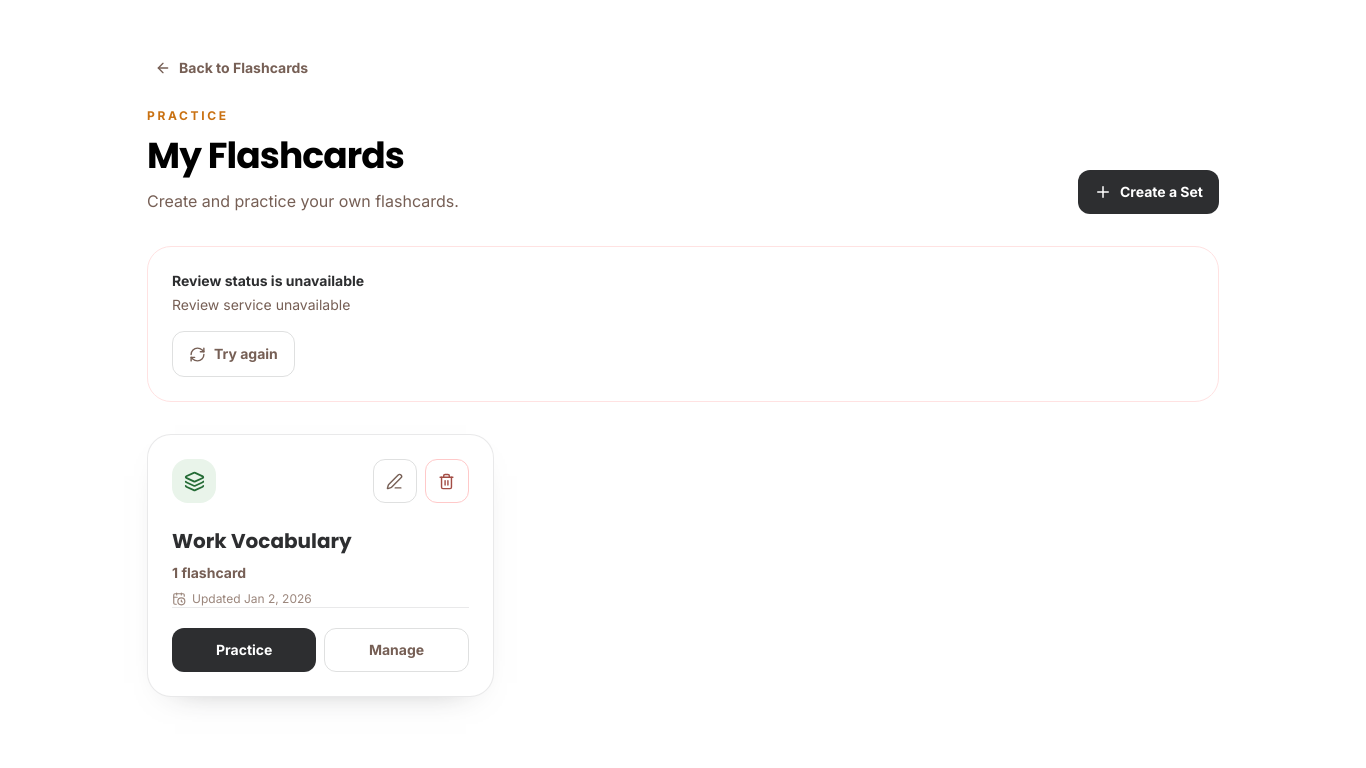
Test case: My Flashcards deck manager › keeps set management available when review status fails and lets students retry
expect the heading "Work Vocabulary" is shown: met, box [172,527,352,555]
expect the text "Review service unavailable" is shown: met, box [172,296,350,313]
Click the button "Try again": (233, 354) [172,331,295,377]
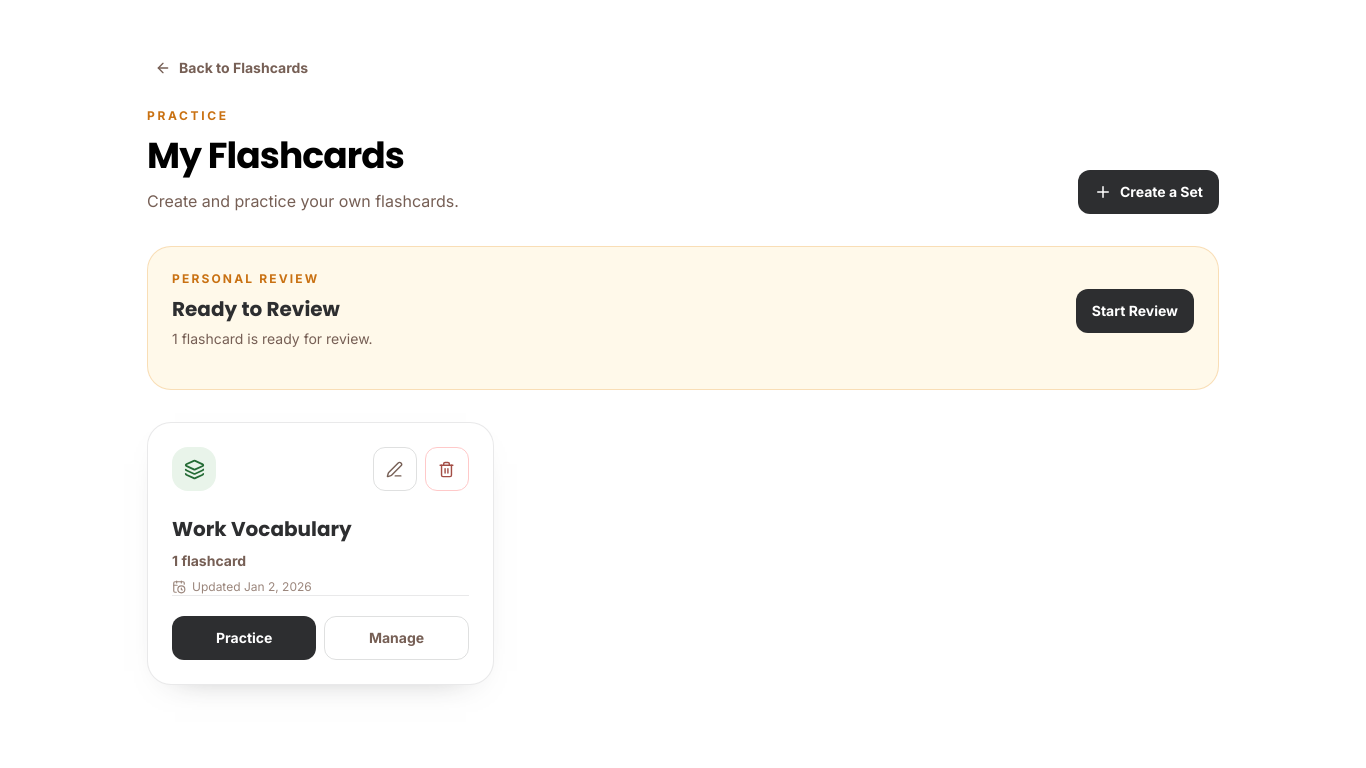
expect the link "Start Review" is shown: met, box [1076,289,1194,333]
